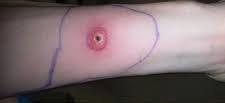Spider: (83, 19, 112, 55)
